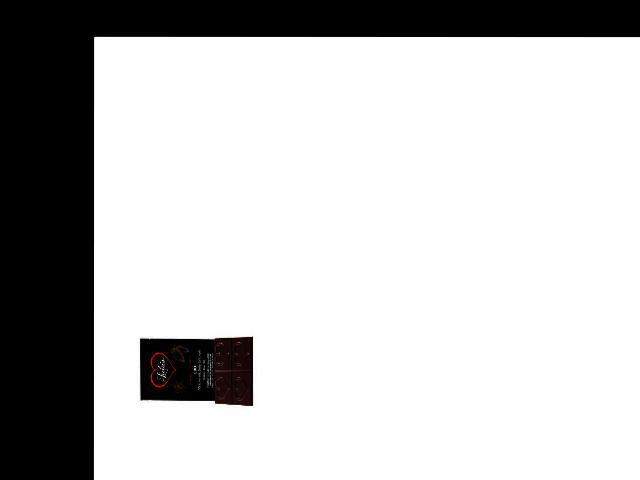chocolate: (139, 334, 257, 411)
